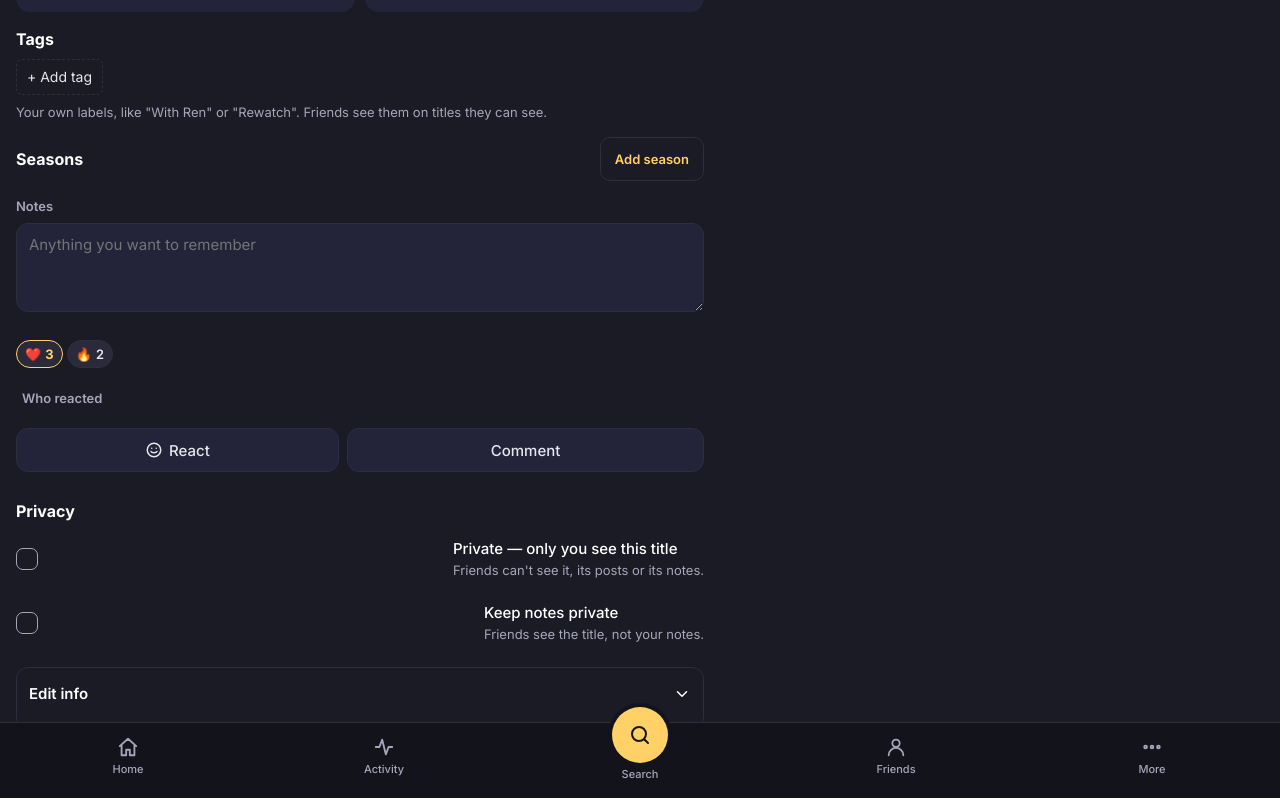
Test: EntrySocial on your own entry › "Who reacted" opens the Reactions sheet: All and per-emoji tabs, "You" for your row, people link to profiles
(page scrolled)
What coordinates should you click on to do the following:
click the button with aria-label "See who reacted to Frieren"
I would click on:
 (62, 398)
Its box is [16,376,108,420].
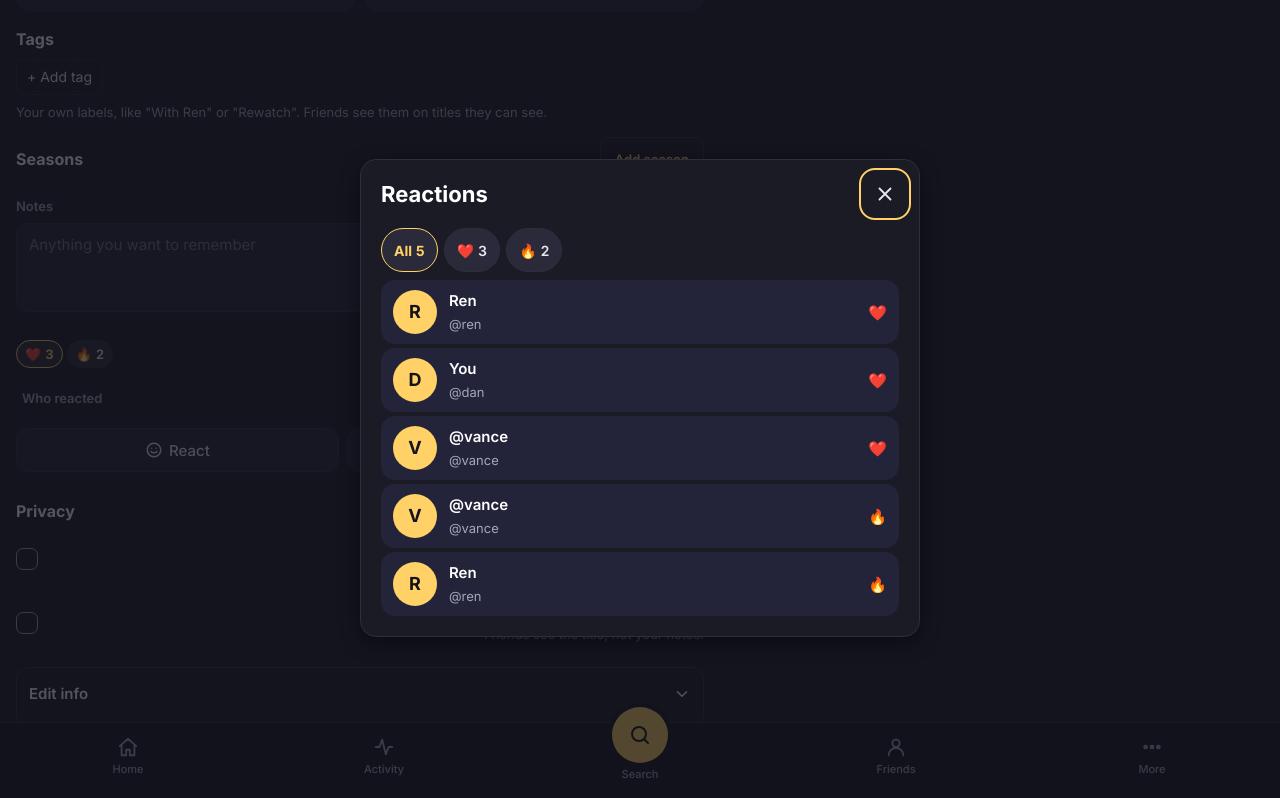
Check: the tabs read "All 5", "❤️ 3", "🔥 2", in this order
What coordinates should you click on to do the following:
click the tab "🔥 2"
I would click on:
 (534, 250)
Its box is [506,228,562,272].
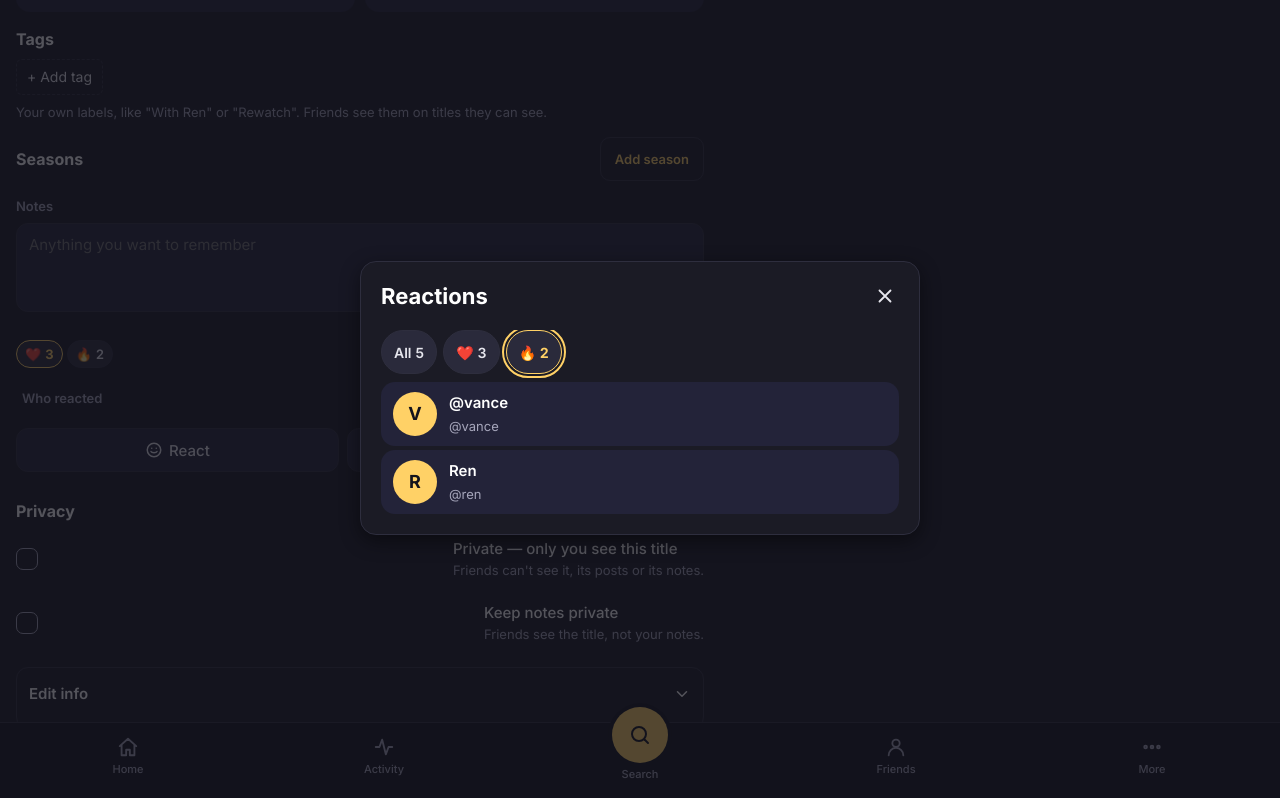
What coordinates should you click on to do the following:
click the tab "❤️ 3"
I would click on:
 (471, 352)
Its box is [443,330,500,374].
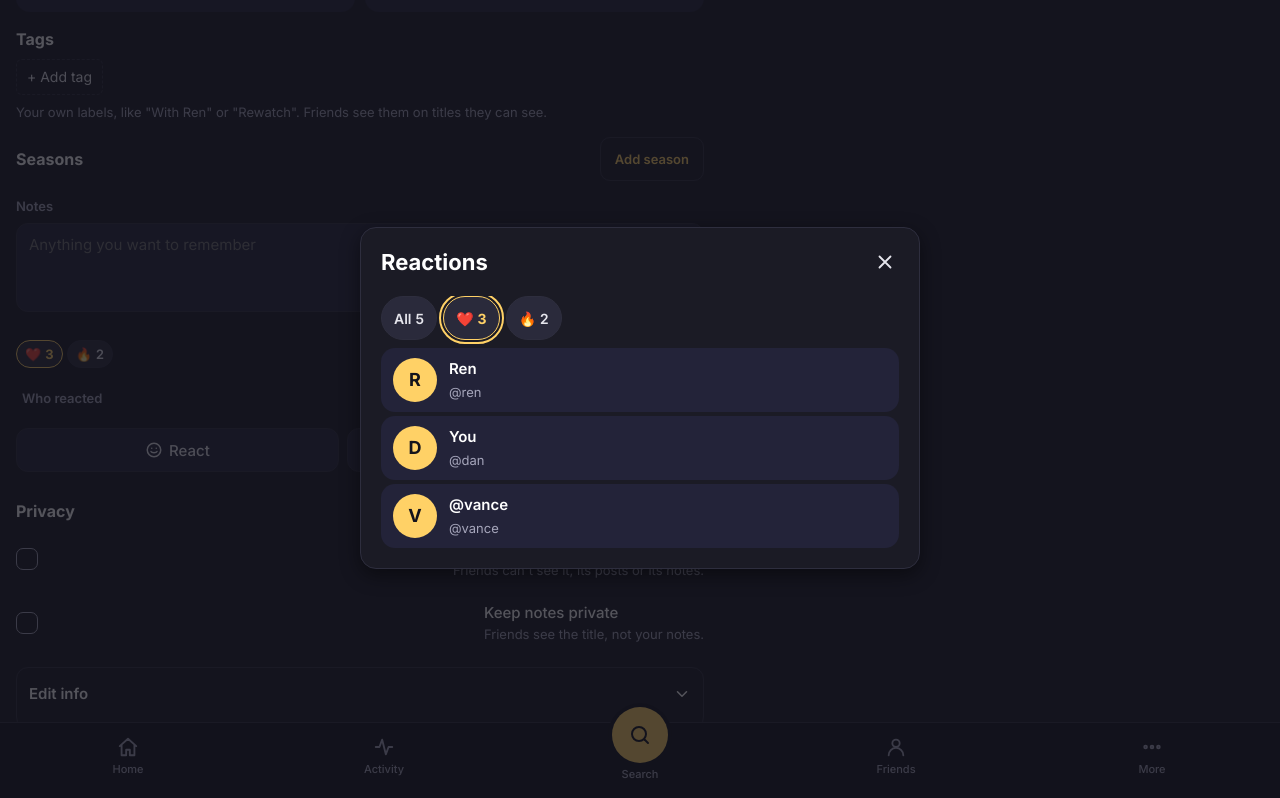
Check: the text "Ren" is shown, box [449,359,477,378]
Check: the text "You" is shown, box [449,427,476,446]
Check: the text "@dan" is shown, box [449,452,484,468]
What coordinates should you click on to do the following:
click the link "R Ren @ren"
I would click on:
 (415, 380)
Its box is [381,348,899,412].
(page scrolled)
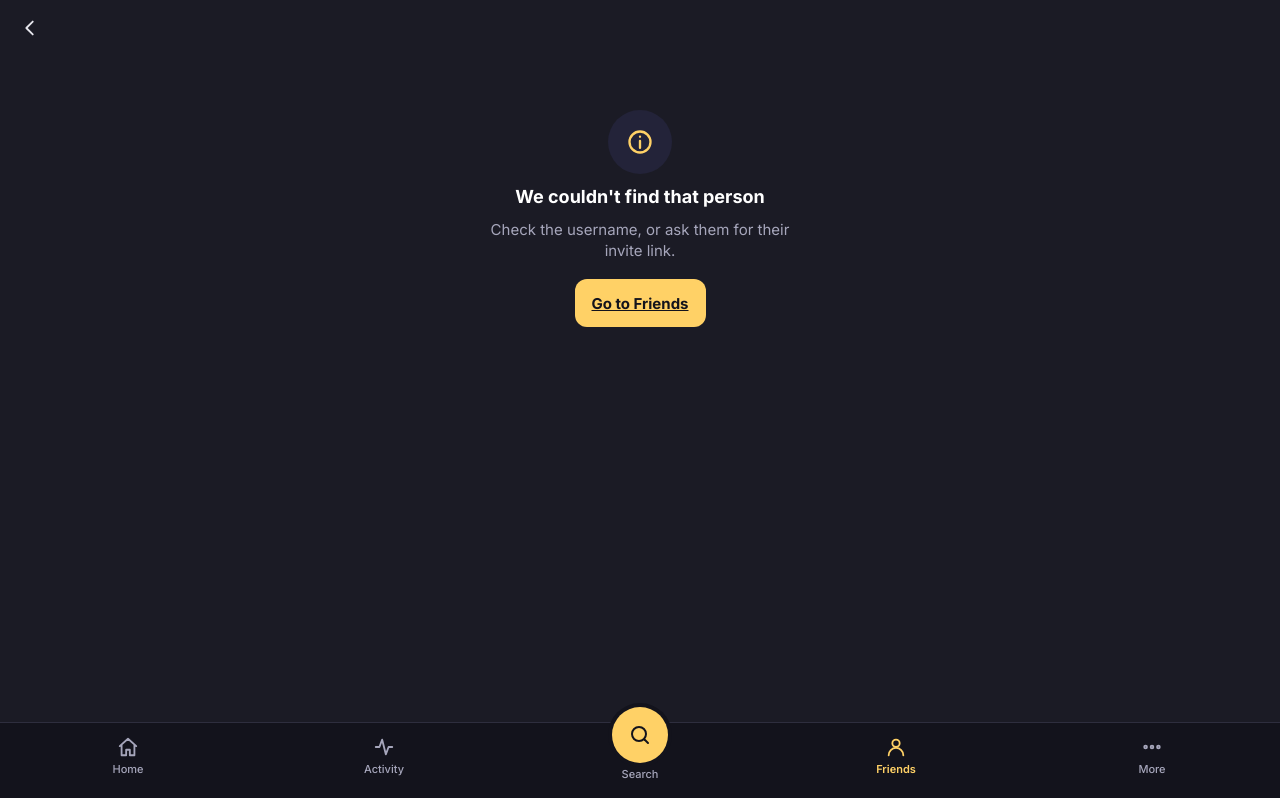
Check: the heading "Reactions" is gone
